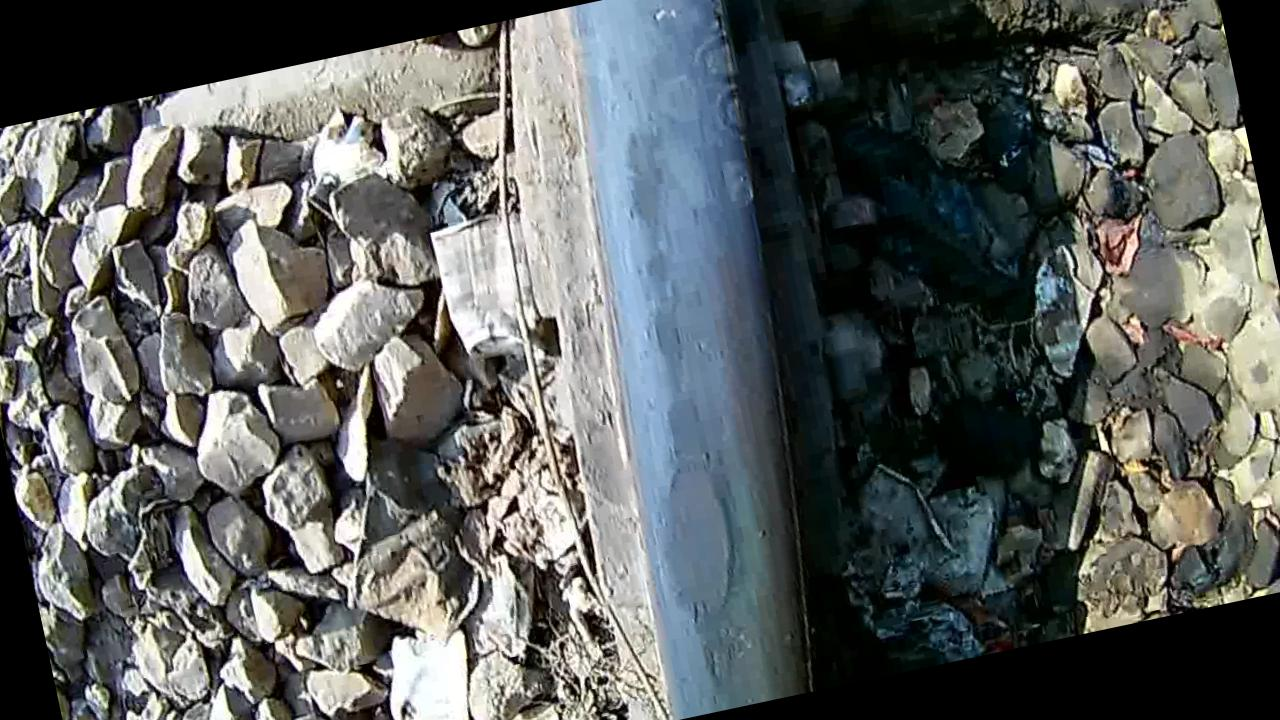bolt_missing: (519, 0, 870, 720)
